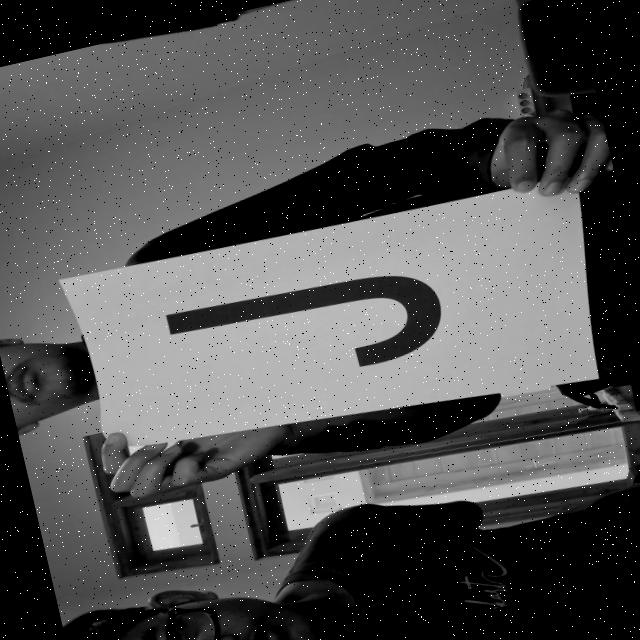j: (142, 246, 472, 420)
